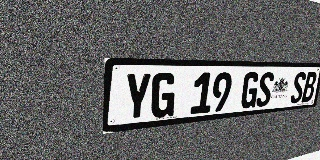1: (190, 72, 214, 114)
9: (210, 72, 233, 112)
B: (301, 72, 318, 102)
G: (150, 73, 177, 119), (240, 72, 260, 109)
S: (255, 72, 275, 107), (289, 72, 307, 104)
Y: (123, 73, 152, 122)
